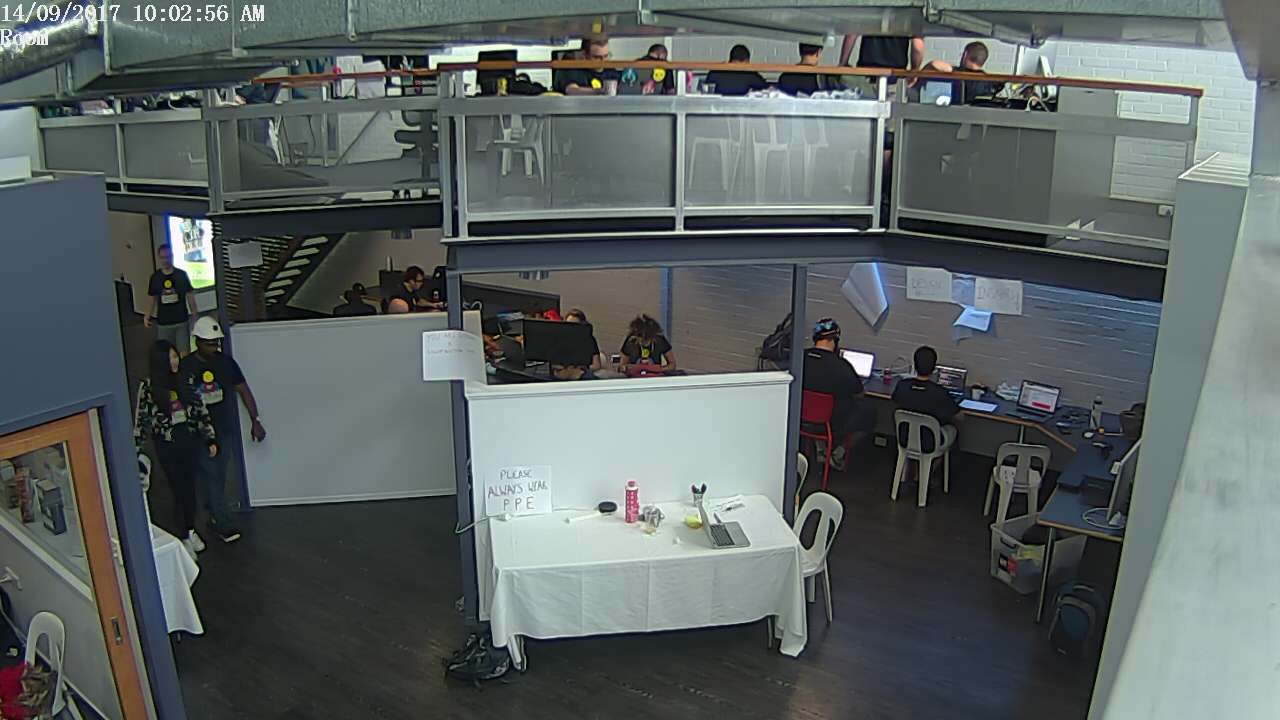bad: (139, 338, 183, 431), (142, 241, 184, 279)
good: (187, 311, 267, 533)
